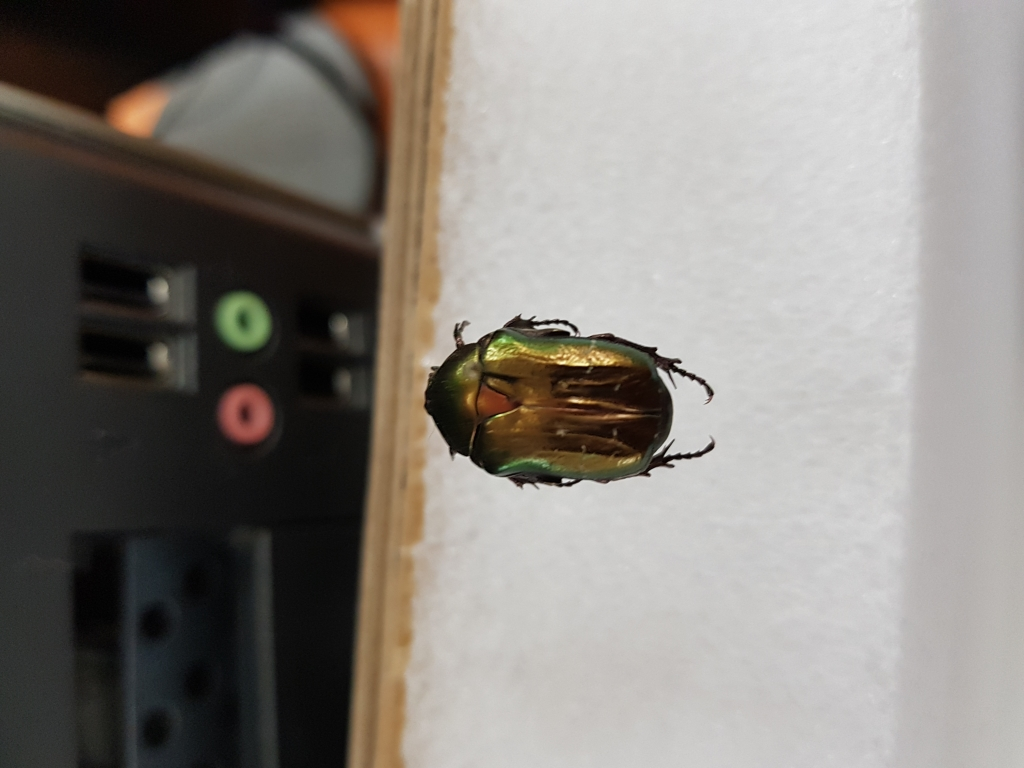Cetonia_kemali: (415, 311, 721, 495)
